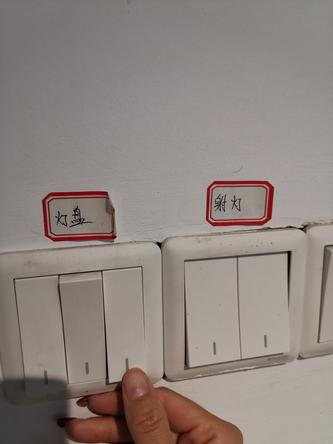switch: (92, 260, 161, 385), (228, 249, 305, 358), (9, 271, 75, 394), (179, 248, 244, 371), (56, 269, 117, 391)
